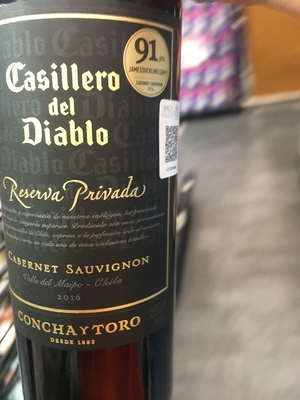casillero del diablo reserva privada cabernet sauvignon: (1, 5, 192, 392)
